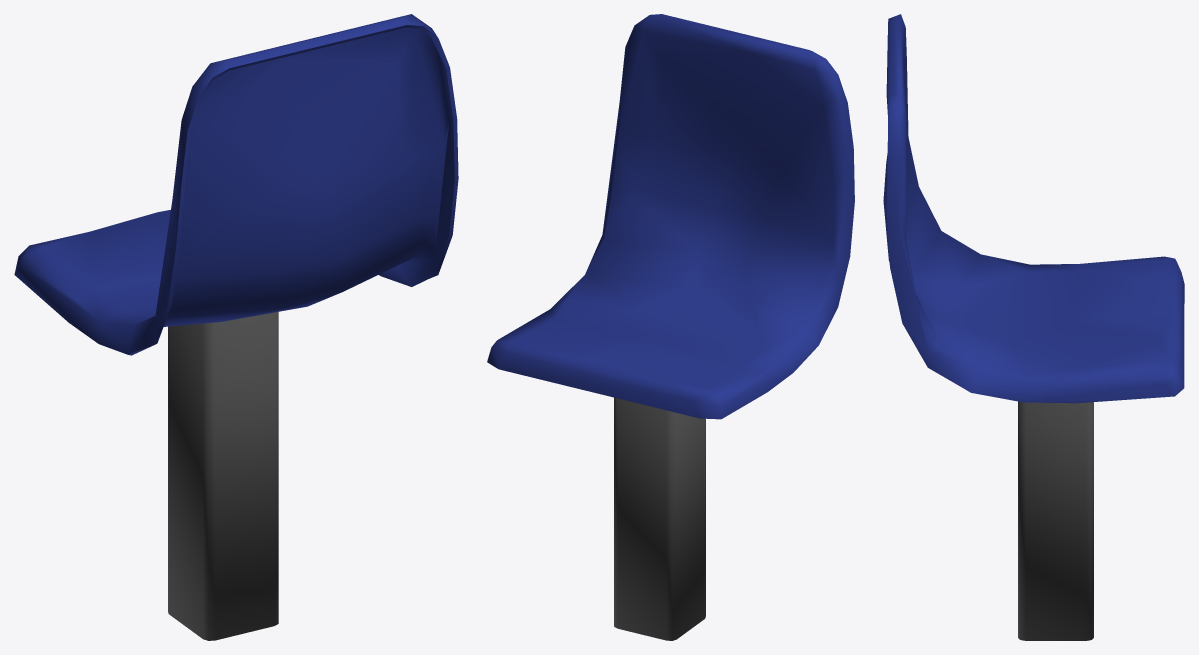
File: chair_LOD1.fbx
3 views of the same model, side by side, from view 1: azimuth 30°, elevation 25°; view 2: azimuth 150°, elevation 25°; view 3: azimuth 270°, elevation 25° (orthographic). The views are drawn at different scales.
Visible parts, largest first — view 1: Seat, Chair; view 2: Seat, Chair; view 3: Seat, Chair.
Boxes of the visible parts, box(x1,y1,x2,y2) form: Seat: box(14, 14, 458, 355); Chair: box(168, 312, 278, 640); Seat: box(487, 14, 854, 419); Chair: box(614, 397, 705, 640); Seat: box(883, 14, 1184, 403); Chair: box(1018, 401, 1093, 640).
Size of the model in its own units: 74.85 by 161 by 76.96.
